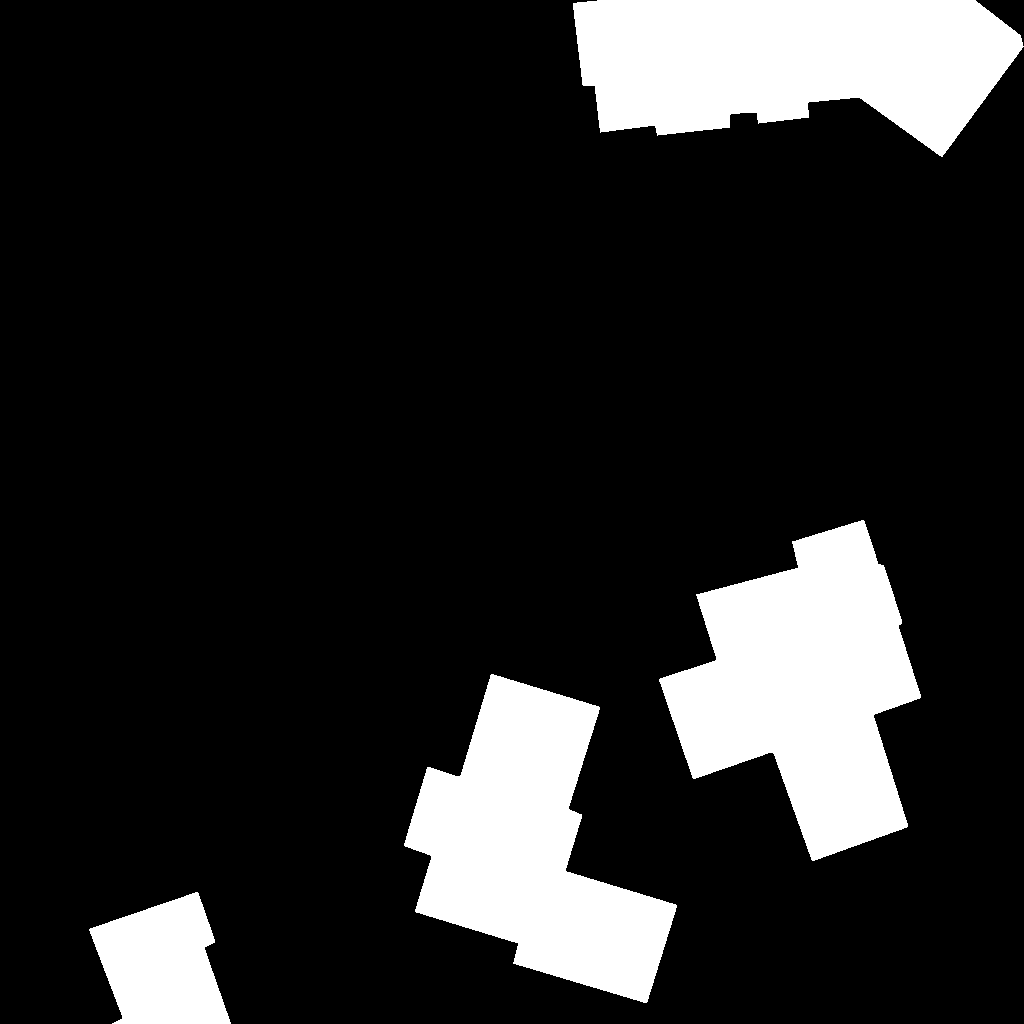building: (404, 674, 678, 1004), (659, 520, 922, 862), (573, 0, 1024, 158), (89, 892, 232, 1024)
